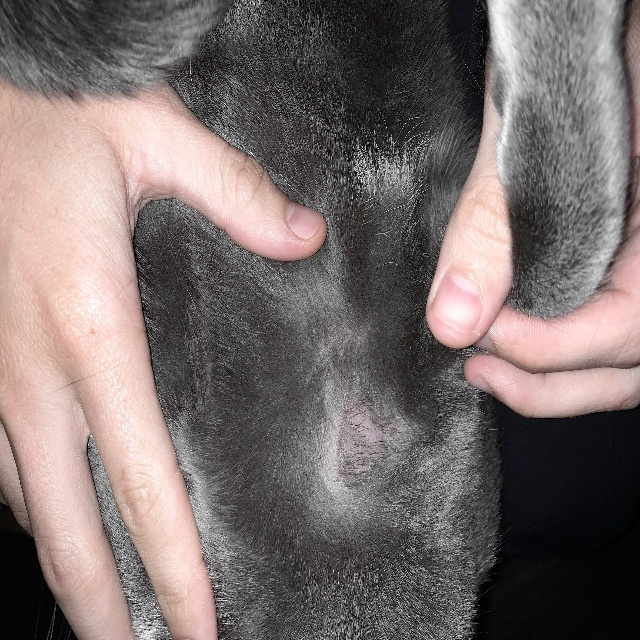hairloss: (318, 377, 411, 505)
